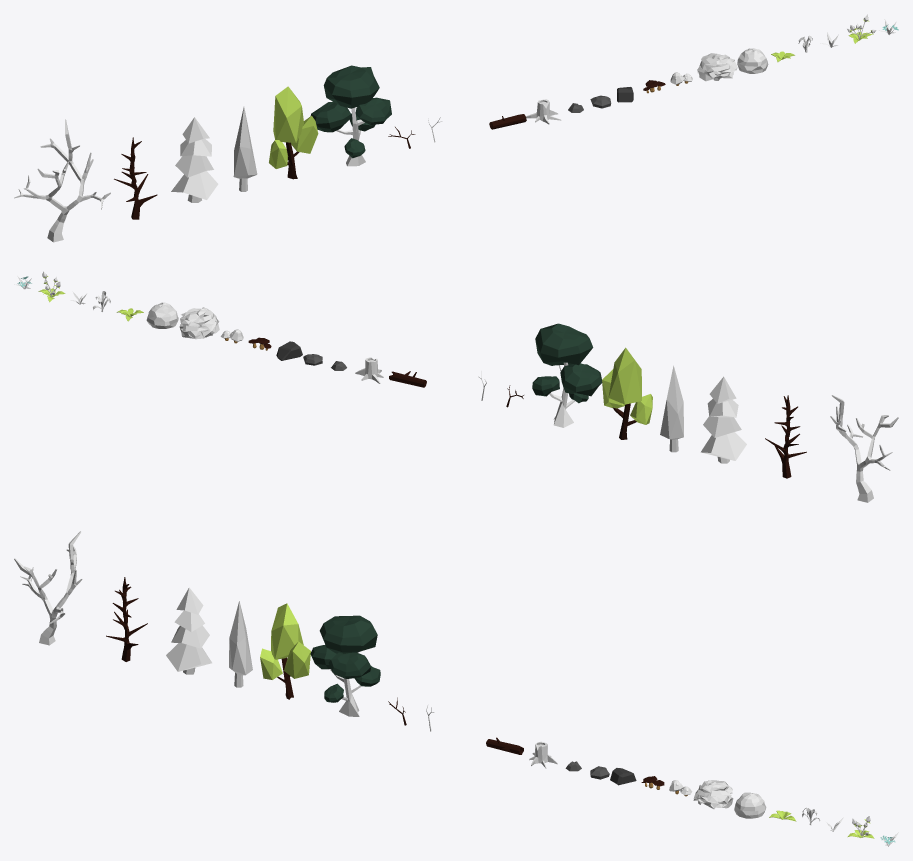
The model's file is NaturePack2.fbx.
The picture shows the model from 3 angles, top to bottom: view 1: azimuth 30°, elevation 25°; view 2: azimuth 150°, elevation 25°; view 3: azimuth 330°, elevation 25°; orthographic projection.
Parts seen in each view (by area): view 1: Tree.004, Tree 003, Tree.001, Dead tree 1, Tree 002, Bush 1, Dead tree 2, Bush 2; view 2: Tree.004, Tree 003, Tree.001, Dead tree 1, Tree 002, Bush 1, Dead tree 2, Bush 2; view 3: Tree.004, Tree 003, Tree.001, Dead tree 1, Tree 002, Bush 1, Dead tree 2, Bush 2.
Part boxes in pixels (x1,y1,x2,y2): Tree.004: [310, 65, 391, 166]; Tree 003: [269, 86, 318, 179]; Tree.001: [171, 117, 218, 202]; Dead tree 1: [14, 119, 110, 242]; Tree 002: [233, 106, 257, 191]; Bush 1: [697, 53, 737, 81]; Dead tree 2: [114, 137, 157, 219]; Bush 2: [737, 48, 768, 73]; Tree.004: [532, 323, 602, 427]; Tree 003: [602, 347, 652, 439]; Tree.001: [700, 376, 746, 463]; Dead tree 1: [830, 395, 898, 502]; Tree 002: [660, 365, 683, 452]; Bush 1: [179, 307, 219, 339]; Dead tree 2: [765, 395, 806, 478]; Bush 2: [146, 302, 178, 328]; Tree.004: [310, 615, 380, 716]; Tree 003: [260, 603, 310, 699]; Tree.001: [166, 587, 211, 674]; Dead tree 1: [14, 531, 82, 645]; Tree 002: [229, 601, 252, 687]; Bush 1: [693, 780, 733, 809]; Dead tree 2: [106, 577, 147, 661]; Bush 2: [734, 792, 766, 818].
Size of the model in its own units: 15192 by 1766 by 1178.
